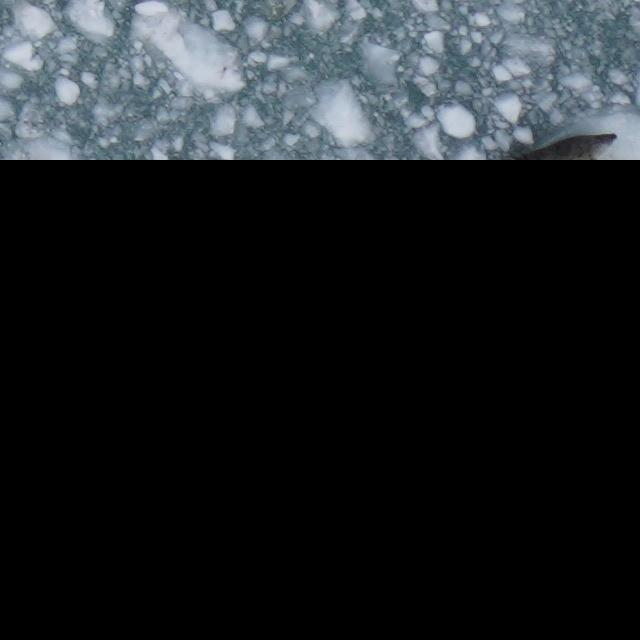seal: (510, 131, 622, 159)
